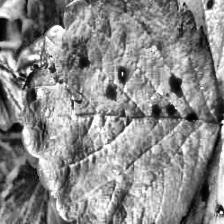Leaf Spot: (16, 0, 222, 224), (152, 0, 224, 121), (13, 0, 153, 58), (0, 154, 95, 224), (167, 108, 224, 224)
